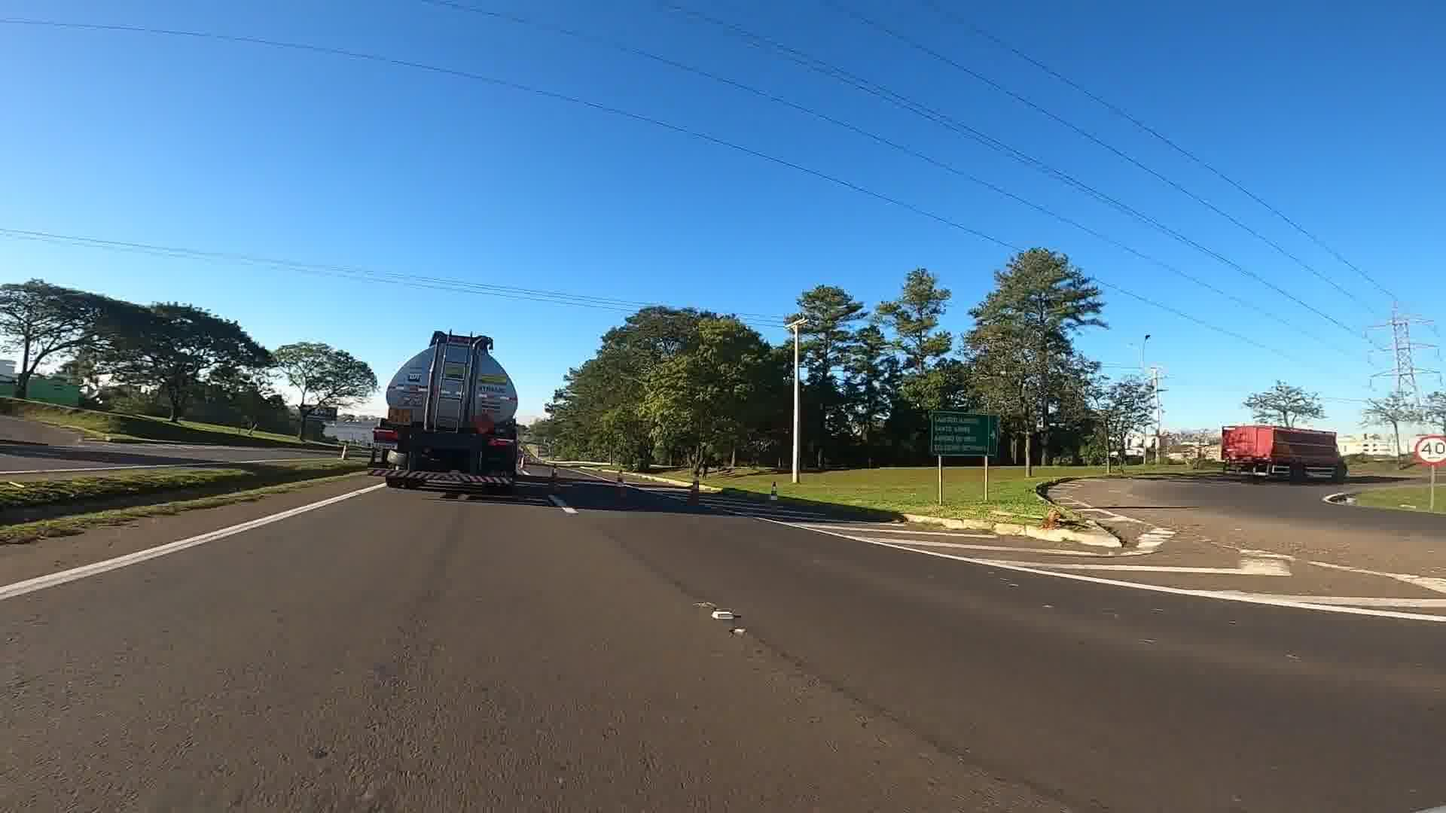R-19: (1413, 434, 1446, 468)
